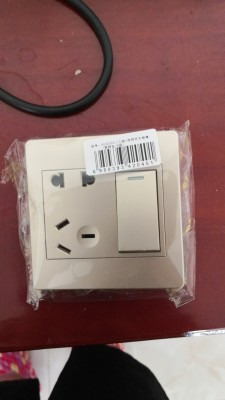switch: (111, 167, 166, 253)
